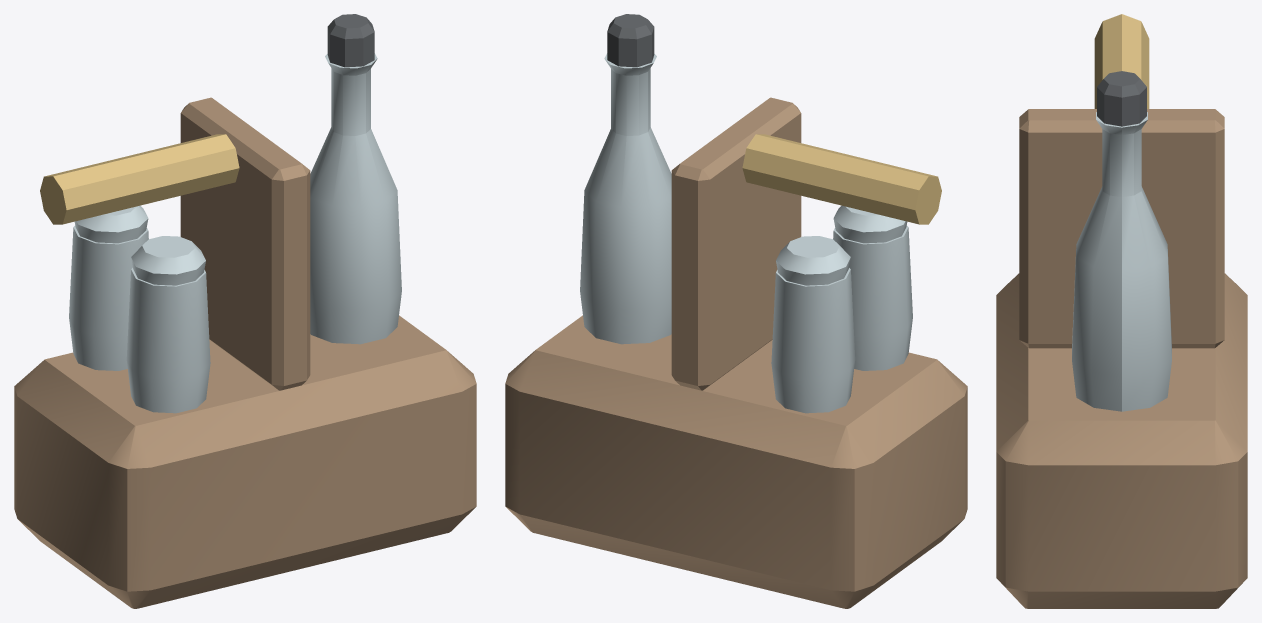
Rendered from restaurant-kitchen-and-dining-condiment-caddy-7cff67ca__16524.glb.
3 views of the same model, side by side, from view 1: azimuth 30°, elevation 25°; view 2: azimuth 150°, elevation 25°; view 3: azimuth 270°, elevation 25° (orthographic). The views are drawn at different scales.
Visible parts, largest first — view 1: condiment-caddy; view 2: condiment-caddy; view 3: condiment-caddy.
Part boxes in pixels (x1=…): condiment-caddy: x1=14, y1=14, x2=476, y2=608; condiment-caddy: x1=505, y1=14, x2=967, y2=608; condiment-caddy: x1=996, y1=14, x2=1247, y2=608.
Size of the model in its own units: 0.195 by 0.243 by 0.11.
